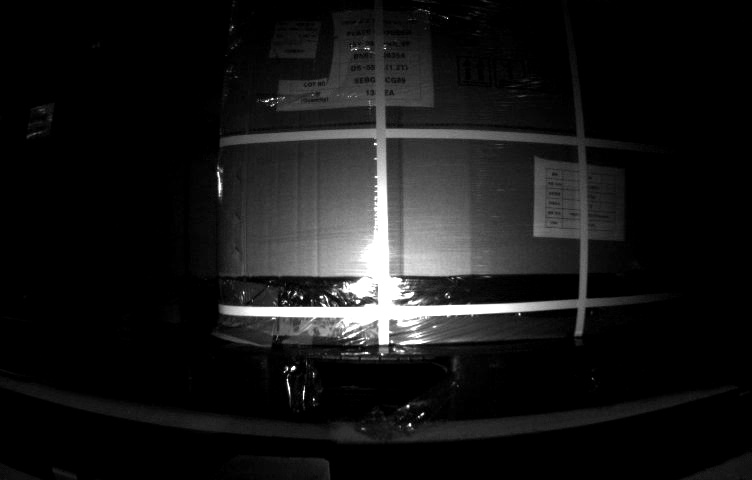True Barcode: (273, 20, 321, 60)
